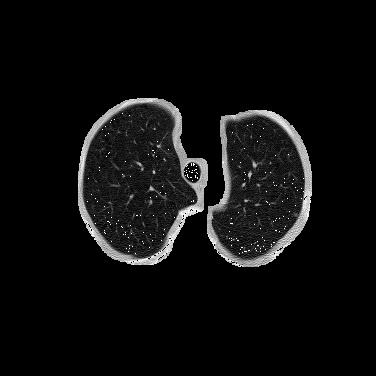PN: (294, 213, 298, 217)
